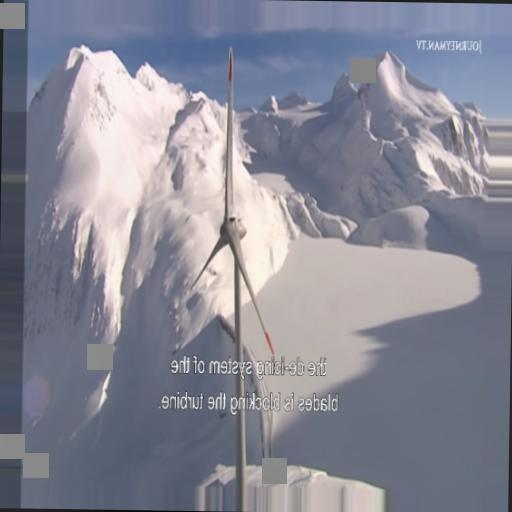wind turbine: (187, 46, 277, 477)
